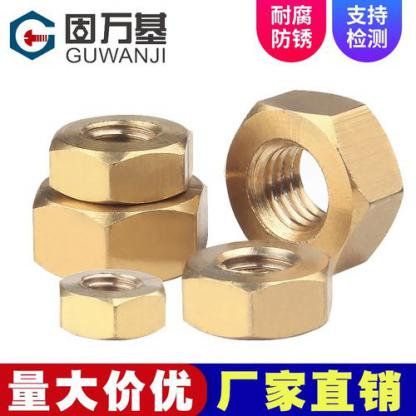FOD: (223, 89, 405, 276), (29, 173, 214, 291), (178, 234, 336, 344), (43, 109, 196, 205), (54, 268, 171, 342)
